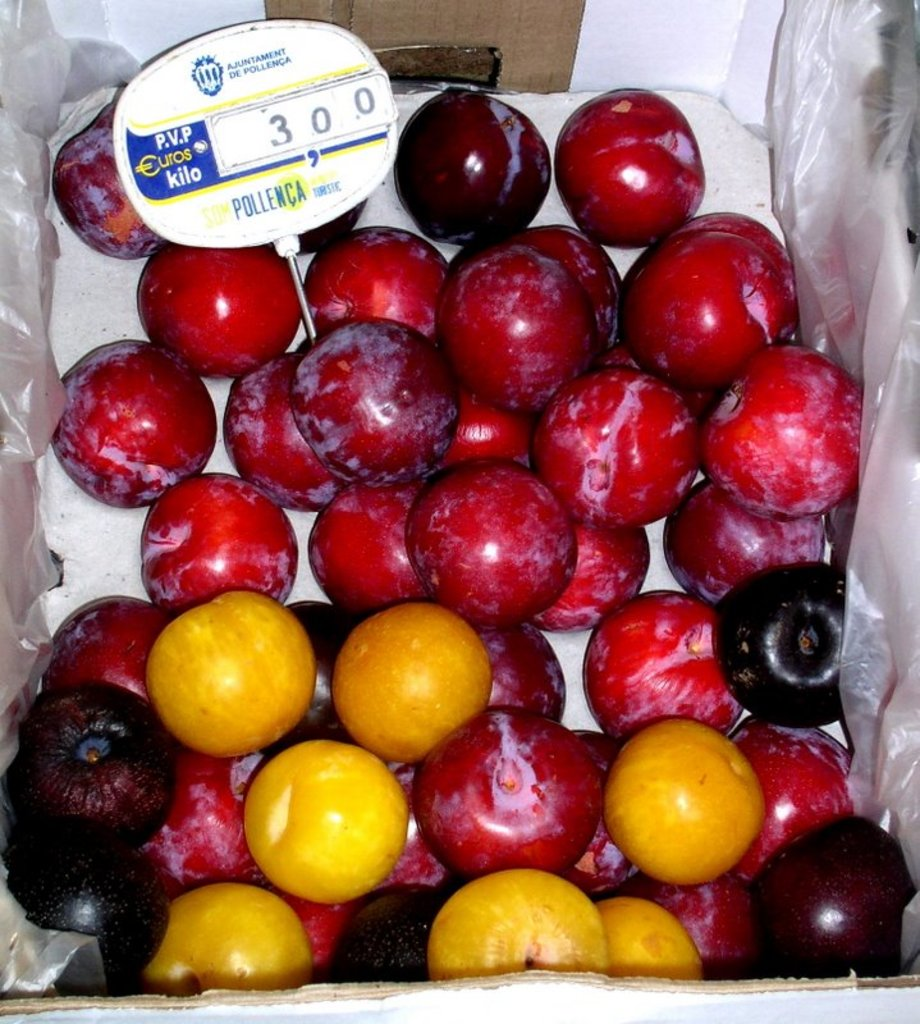Apple: (433, 218, 615, 390)
